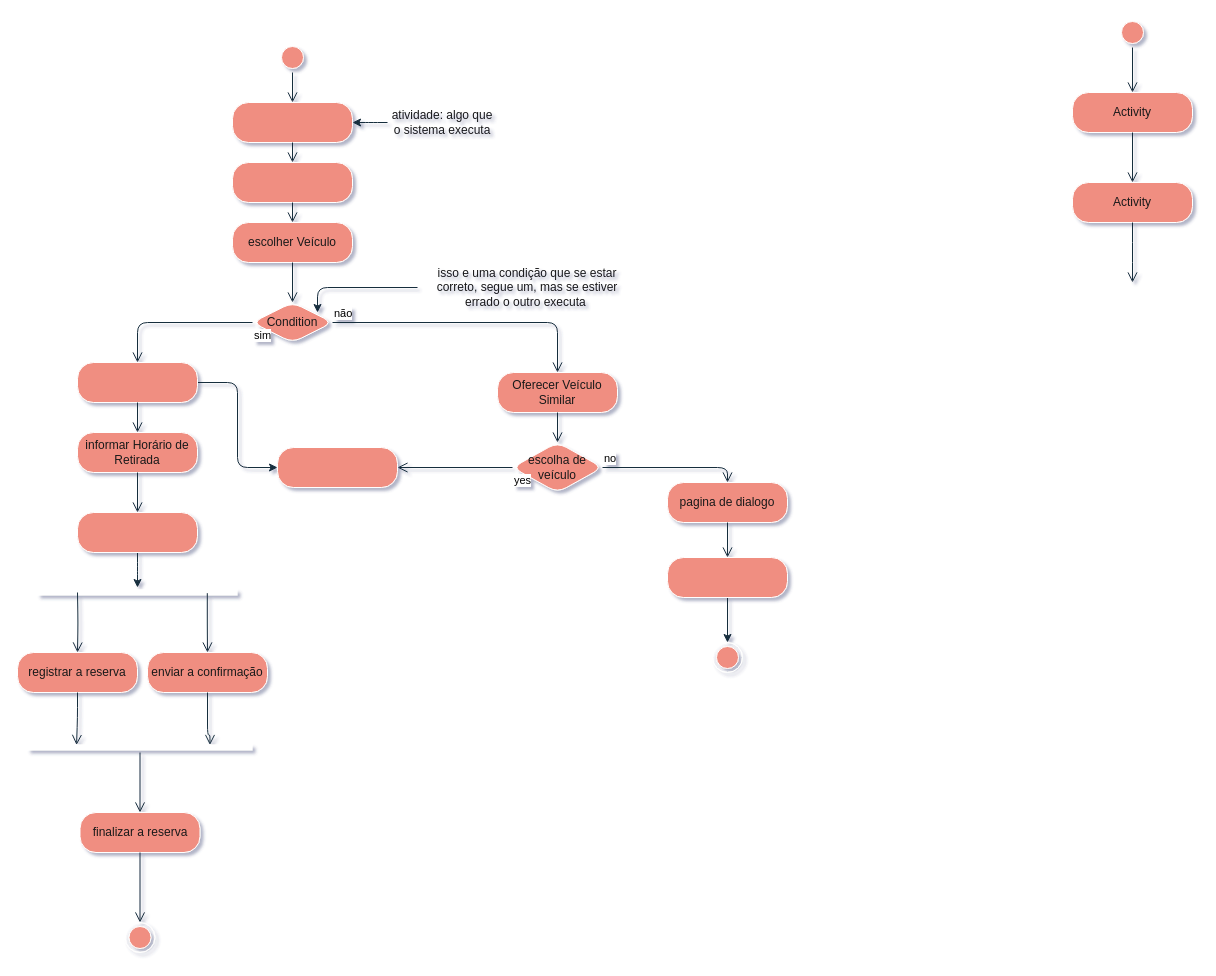
The diagram is 1216 pixels wide and 976 high, and some of its shapes have lost their labels. The box of each missing label's shape, as (x1, y1, x2, y2) in pixels:
atendimento: (666, 556, 788, 598)
consultar veiculo: (232, 162, 352, 202)
efetuar login: (232, 102, 352, 142)
escolher forma de pagamento: (76, 512, 198, 552)
informar dia de Retirada: (76, 362, 198, 402)
selecionar veículo: (276, 446, 398, 488)
